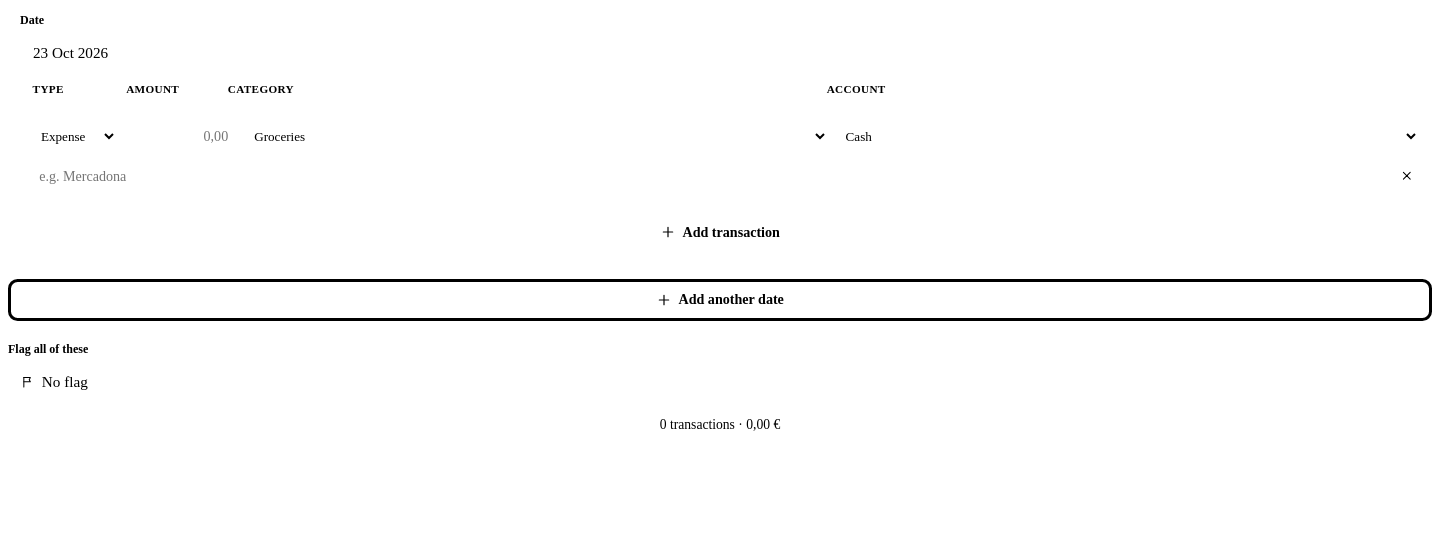
Test: BatchTransactionForm — rows and dates › adding a row carries the previous row's category, account, and type forward
This screenshot has width=1440, height=555.
Select "Dining out" in the dropdown showing "Groceries" at (536, 137), box [243, 119, 829, 154]
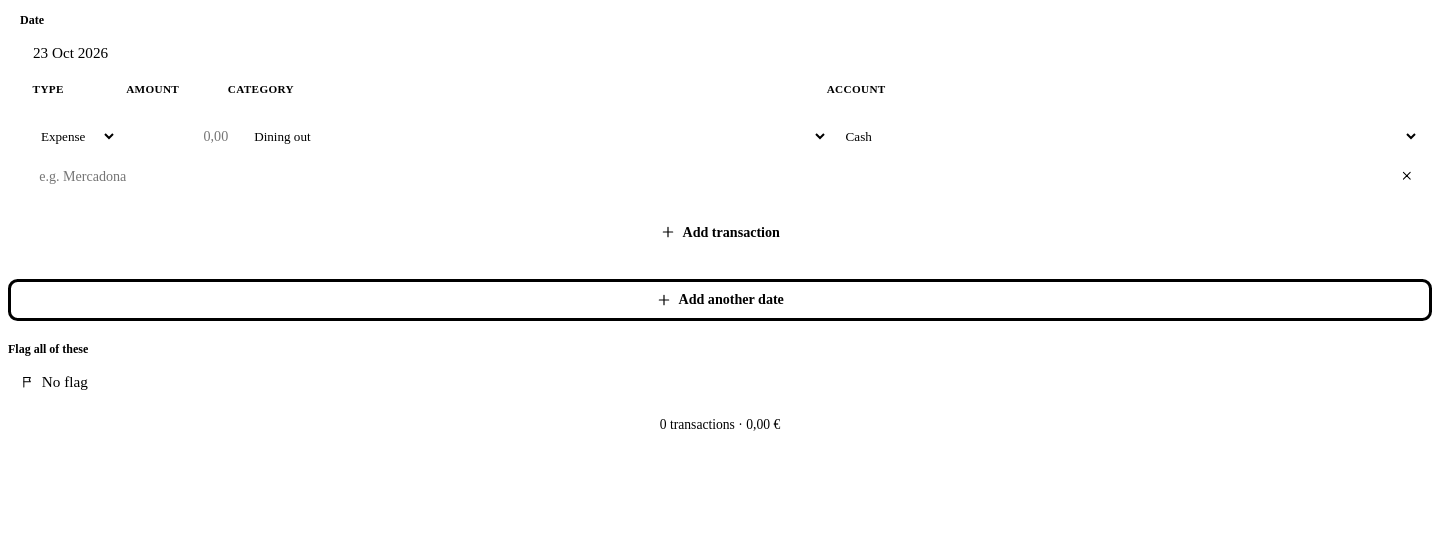
Select "Card" in the dropdown showing "Cash" at (1127, 137), box [834, 119, 1420, 154]
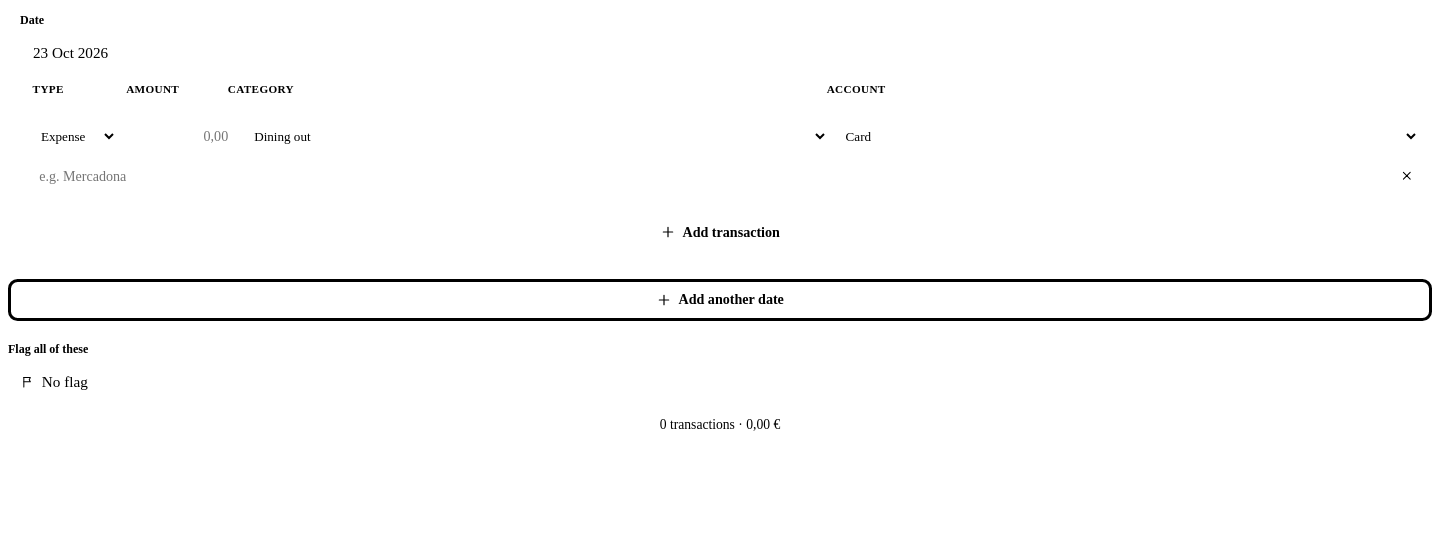
Select "Income" in the dropdown named "Type" at (74, 137), box [30, 119, 118, 154]
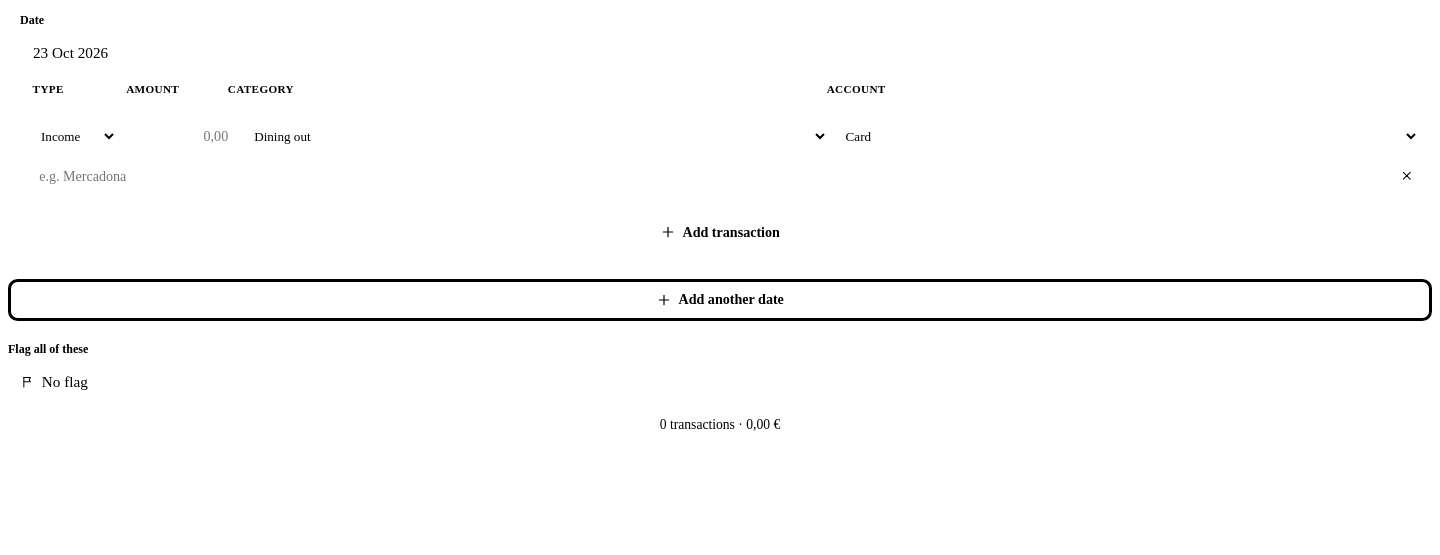
Click the button "Add transaction" at (720, 232), box [20, 214, 1420, 250]
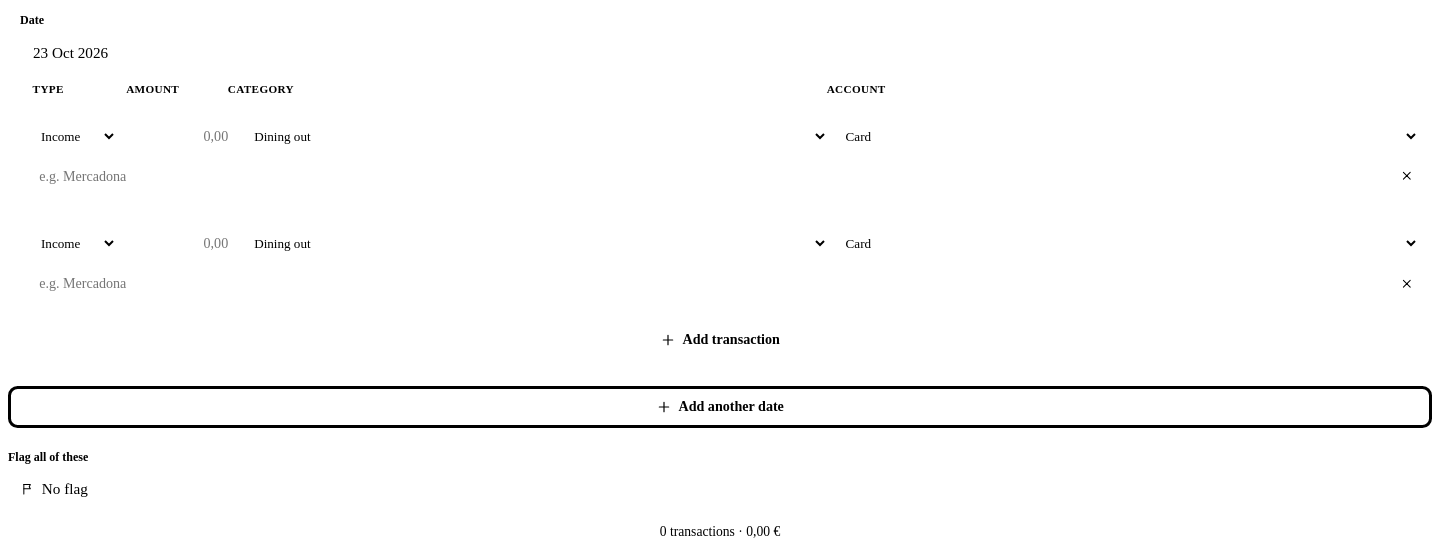
Check: the number of dropdowns showing "Dining out" is 2, box [243, 119, 829, 154]; [243, 226, 829, 261]
Check: the number of dropdowns showing "Card" is 2, box [834, 119, 1420, 154]; [834, 226, 1420, 261]
Check: the number of dropdowns with placeholder "e.g. Mercadona" is 2, box [30, 160, 1408, 193]; [30, 267, 1408, 300]
